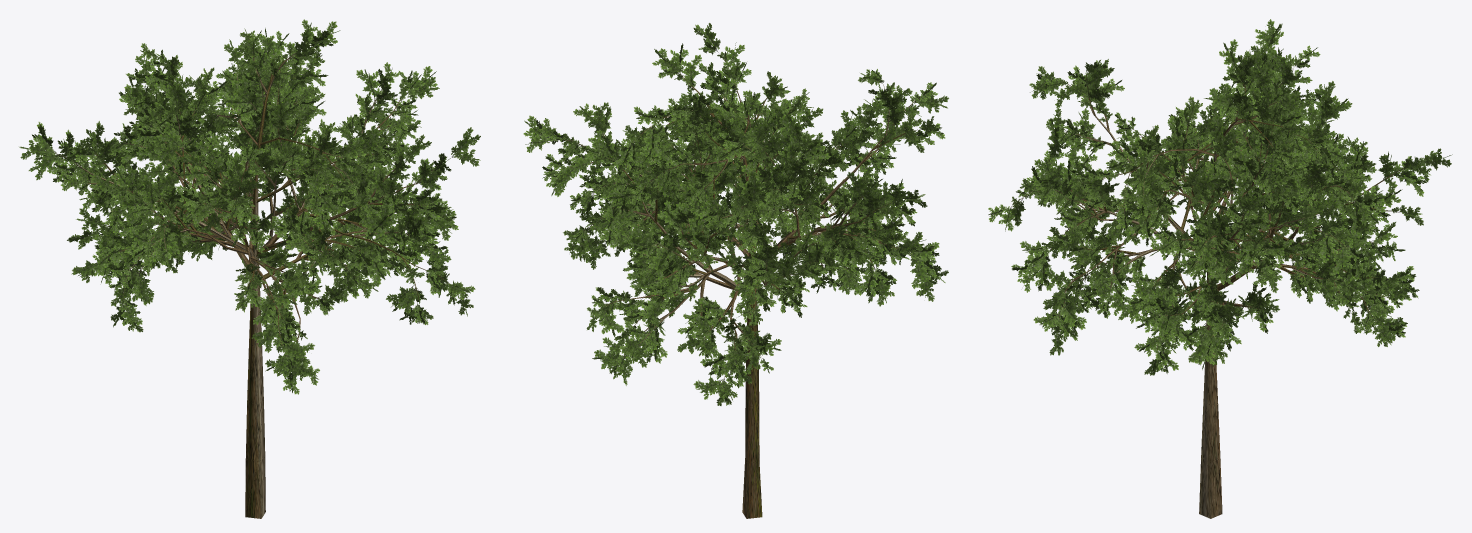
The model's file is oak_b.glb.
The picture shows the model from 3 angles, left to right: view 1: azimuth 30°, elevation 25°; view 2: azimuth 150°, elevation 25°; view 3: azimuth 270°, elevation 25°; orthographic projection. The views are drawn at different scales.
Visible parts, largest first — view 1: Tree; view 2: Tree; view 3: Tree.
Part boxes in pixels (box(x1,y1,x2,y2)): Tree: box(19, 19, 480, 518); Tree: box(523, 23, 948, 518); Tree: box(988, 19, 1452, 518).
Bounding box in the file's own units: 57.78 × 61.8 × 57.28.
2 materials, 2 textured.
